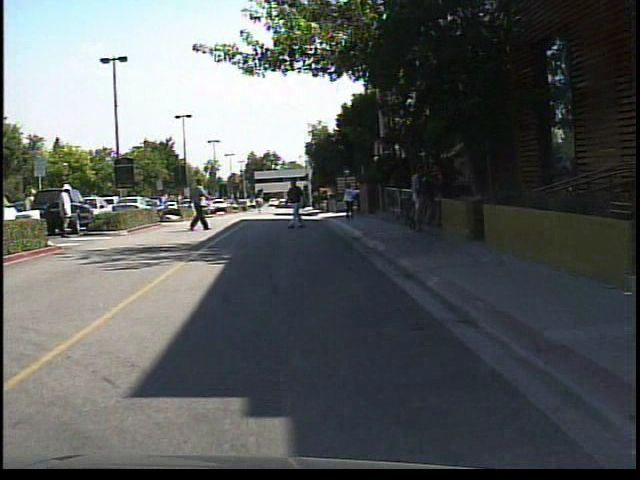person: (405, 153, 436, 239), (185, 172, 213, 234), (426, 164, 449, 235), (284, 174, 312, 232), (57, 179, 81, 241), (21, 183, 43, 240), (338, 179, 357, 226), (193, 190, 209, 220), (253, 192, 269, 215)
